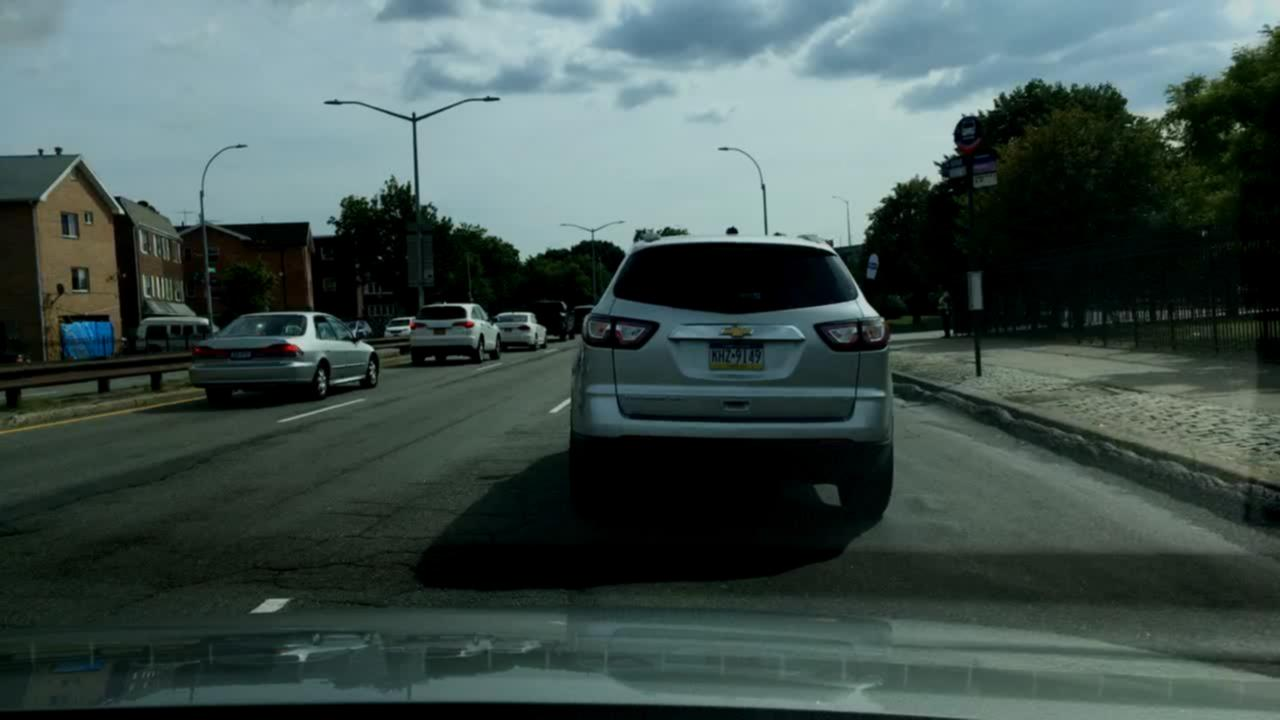chevrolet: (700, 318, 772, 342)
